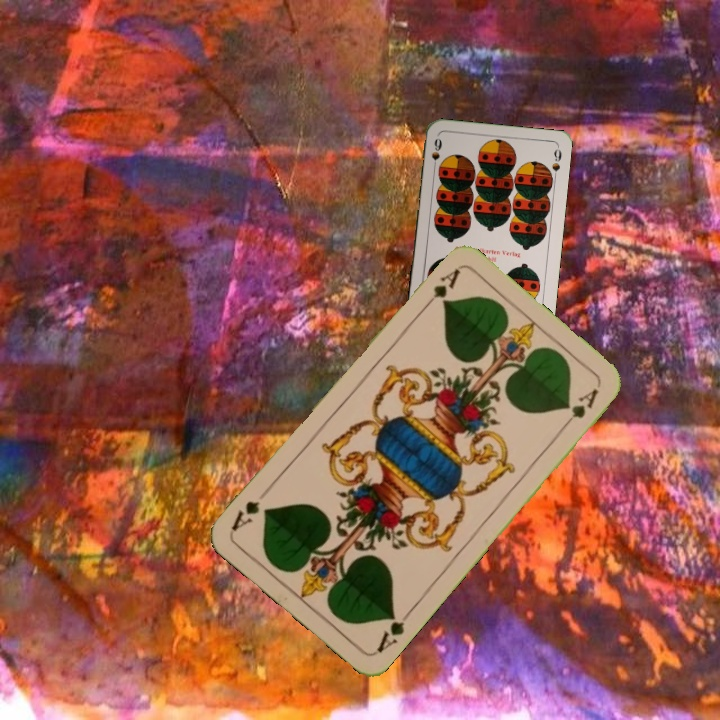GA: (418, 264, 463, 313), (372, 605, 415, 656)
S9: (428, 135, 444, 173)
